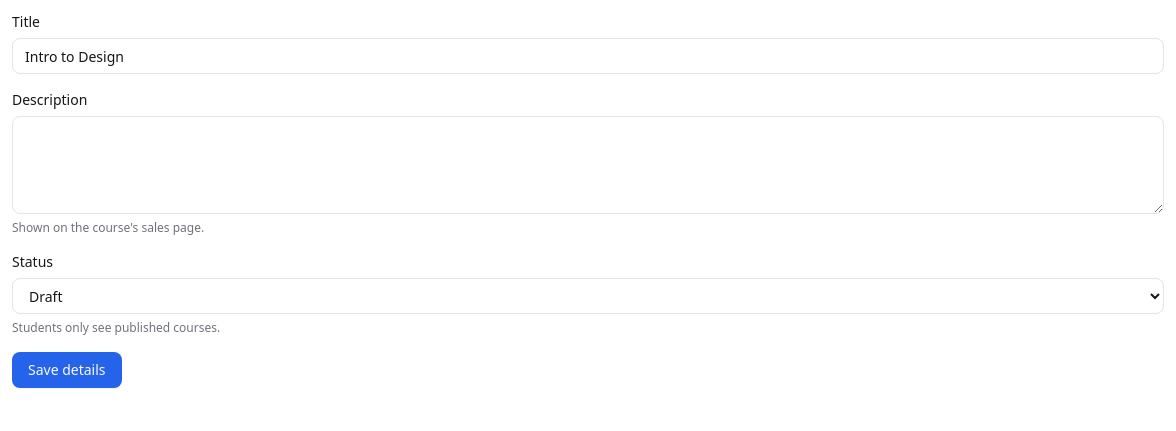
Scenario: CourseSettingsForm › marks the fields the save rejected
Expected: the field labelled "Title" is shown, [12,38,1164,74]
Click the button "Save details".
click(67, 370)  # box [12,352,122,388]
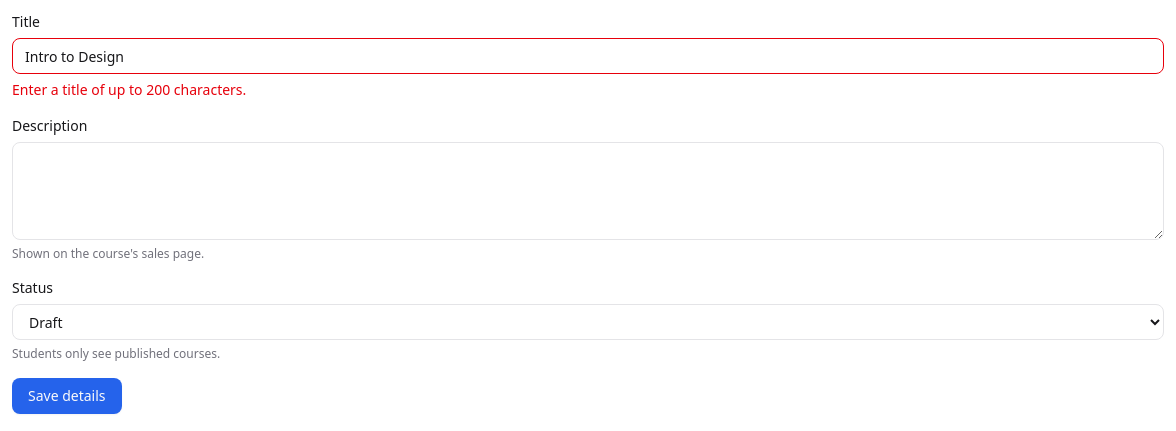
Result: the text "Enter a title of up to 200 characters." is shown at [12,80,246,99]
